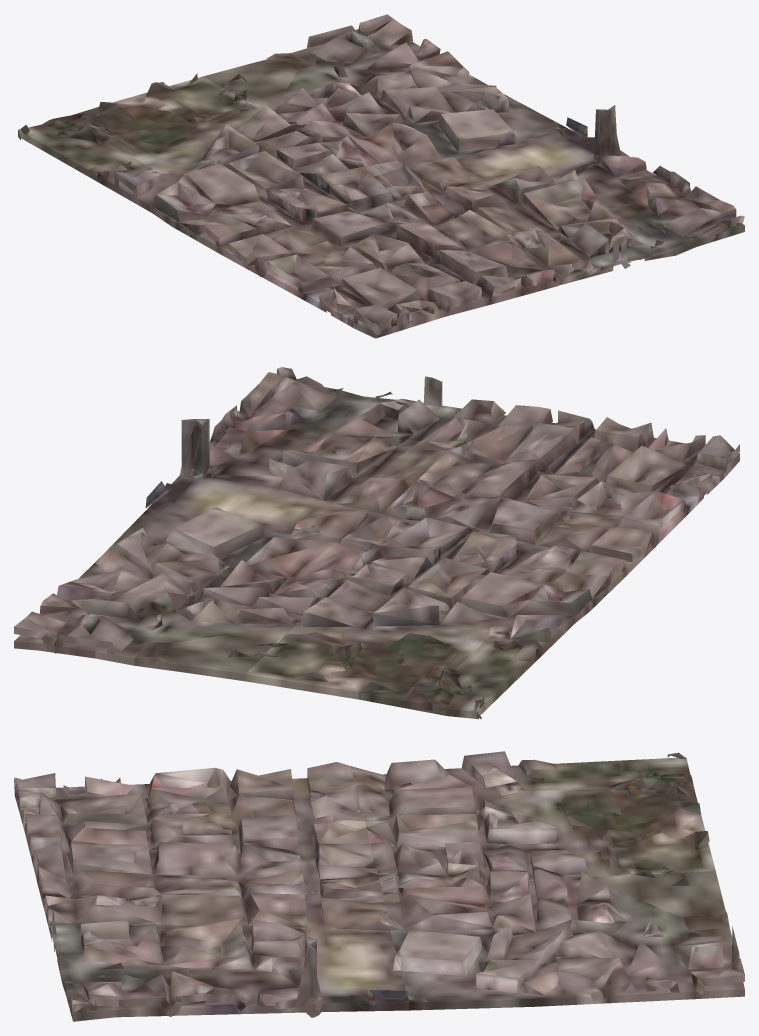
3 renders of one model, top to bottom at view 1: azimuth 30°, elevation 25°; view 2: azimuth 150°, elevation 25°; view 3: azimuth 270°, elevation 25°, orthographic. The views are drawn at different scales.
Visible parts, largest first — view 1: Mesh_0; view 2: Mesh_0; view 3: Mesh_0.
Boxes of the visible parts, x1,y1,x2,y2 form: Mesh_0: (18,14,744,338); Mesh_0: (14,367,739,719); Mesh_0: (14,751,744,1021).
Bounding box in the file's own units: 1075 × 139 × 1319.
2 materials, 2 textured.
